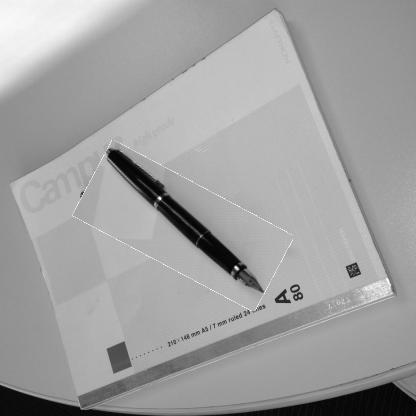Pen: (76, 161, 290, 291)
